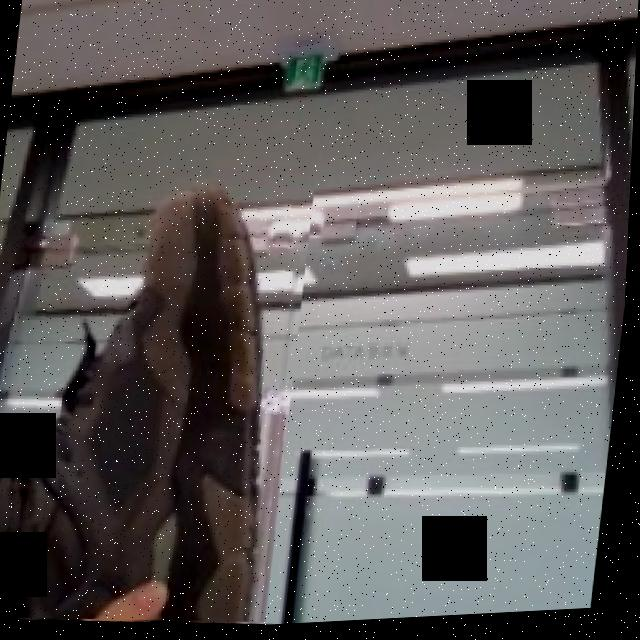shoe: (0, 124, 322, 637)
